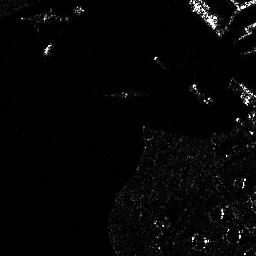ship: (189, 1, 219, 29)
